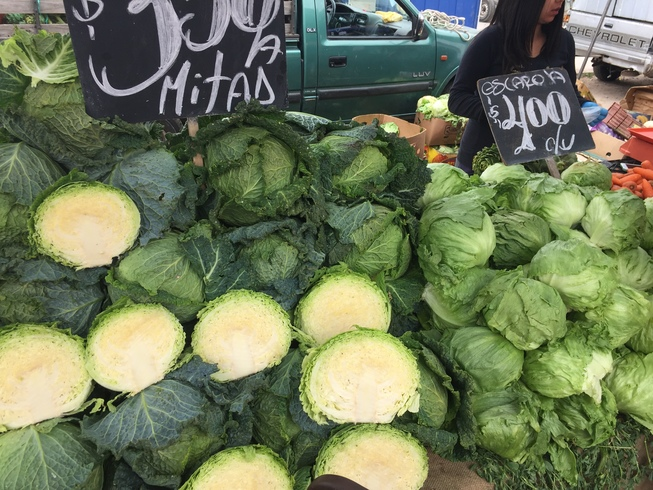precio: (50, 1, 295, 126), (461, 59, 606, 175)
